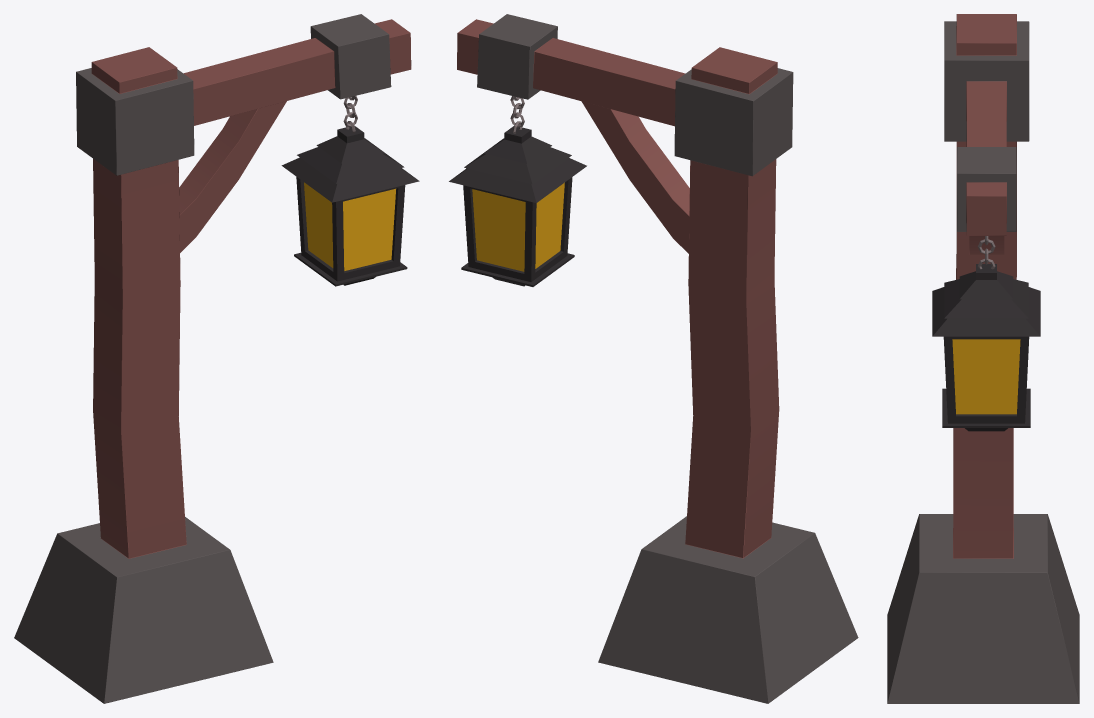
Rendered from PosteVila1.fbx.
The picture shows the model from 3 angles, left to right: view 1: azimuth 30°, elevation 25°; view 2: azimuth 150°, elevation 25°; view 3: azimuth 270°, elevation 25°; orthographic projection. The views are drawn at different scales.
Parts seen in each view (by area): view 1: Cube.005; view 2: Cube.005; view 3: Cube.005.
Part boxes in pixels (left/top/right/bottom): Cube.005: left=14, top=14, right=419, bottom=703; Cube.005: left=449, top=14, right=858, bottom=703; Cube.005: left=887, top=14, right=1079, bottom=703.
Bounding box in the file's own units: 154 × 251 × 69.9.
